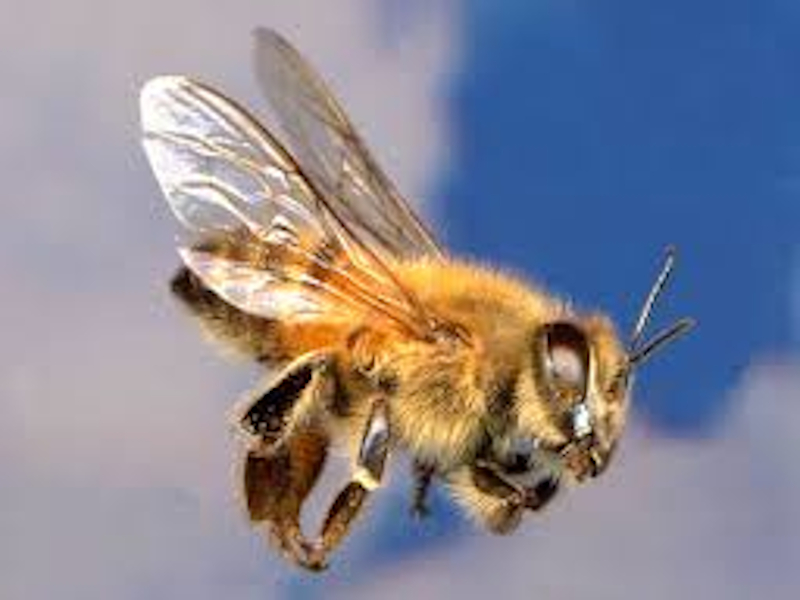abeja: (112, 20, 687, 566)
